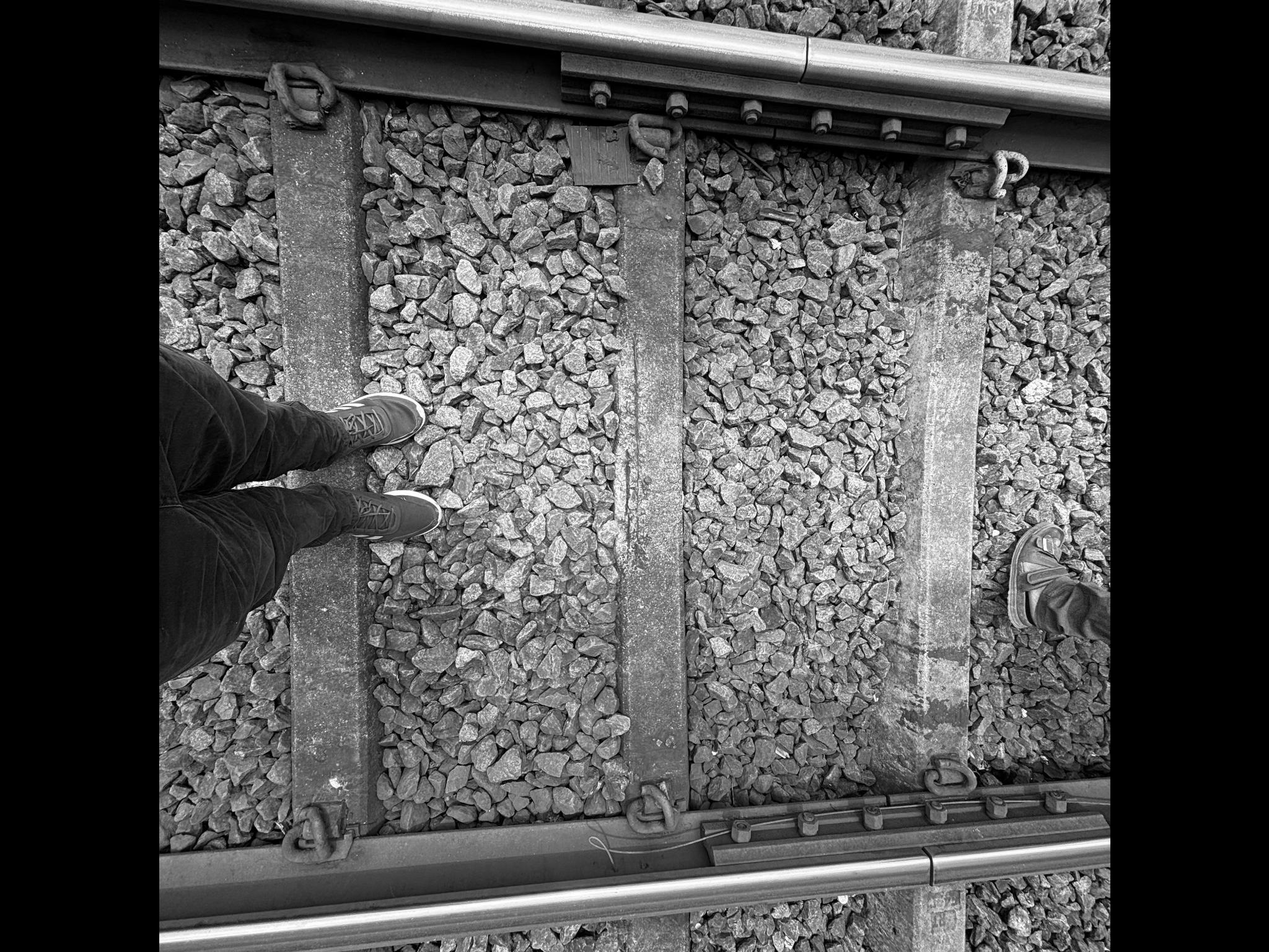cracks in midportion: (610, 287, 653, 581)
